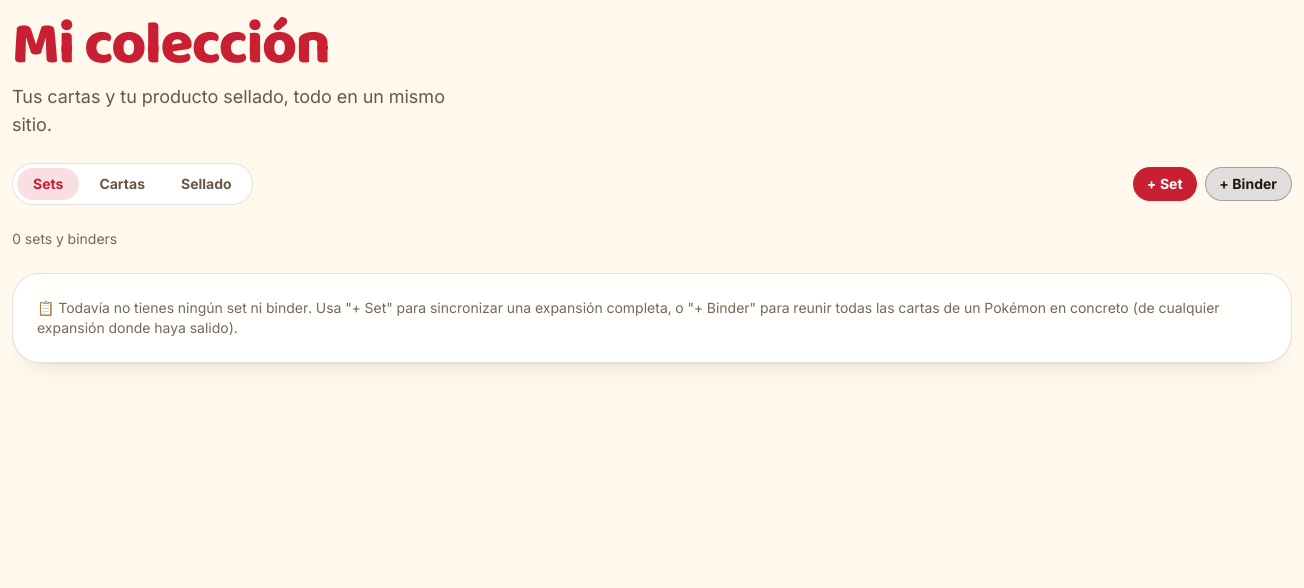
Test: ColeccionScreen › lista los ejemplares con precio de compra y valor estimado
Step 1. Click the button "Cartas" → (122, 184), box [83,168,161,200]
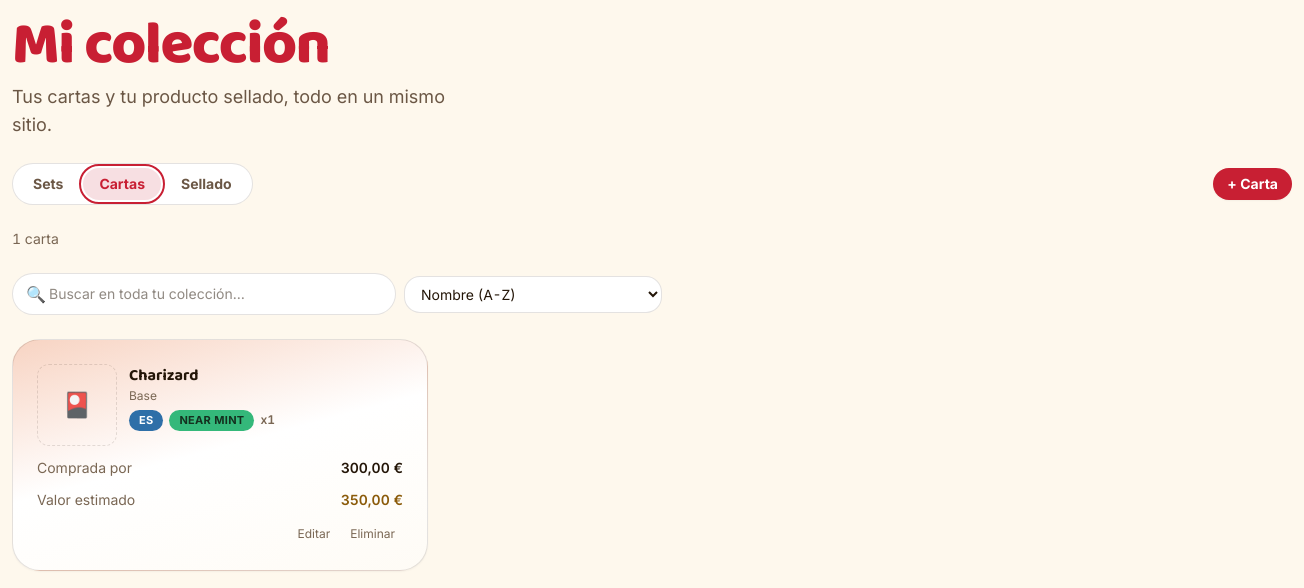
Result: the text "Charizard" is shown at [129,363,198,388]
Result: the text "300,00 €" is shown at [341,458,403,478]
Result: the button "350,00 €" is shown at [341,490,403,510]
